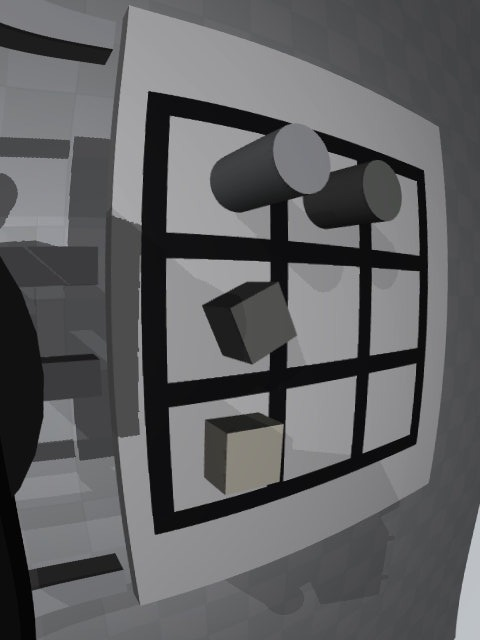can: (210, 123, 331, 212)
cube: (202, 282, 297, 364)
cylinder: (303, 160, 402, 229)
foam: (204, 412, 284, 495)
